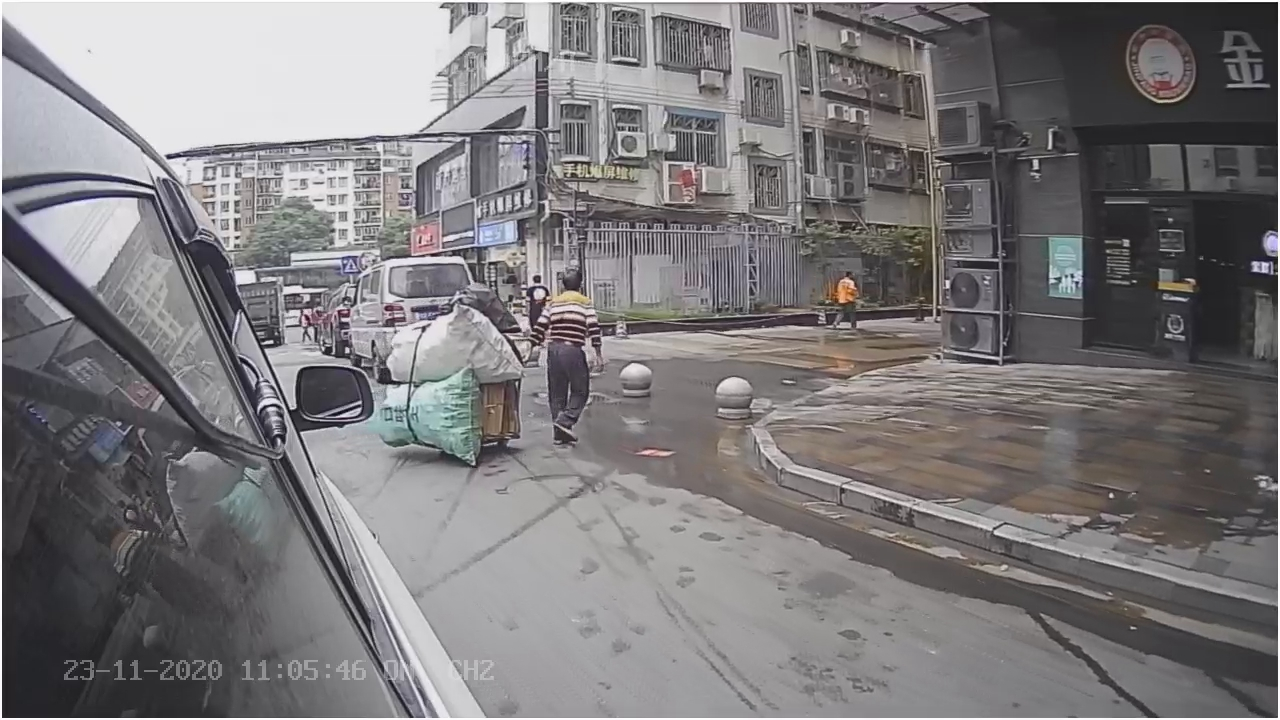person: (536, 272, 599, 465)
